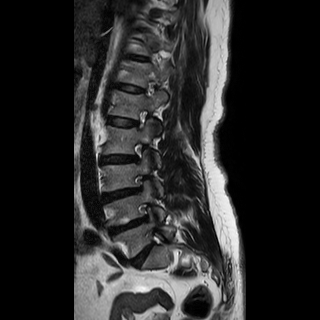RFS0: (130, 105, 152, 136), (128, 136, 148, 167)
RFS2: (128, 171, 149, 201)
